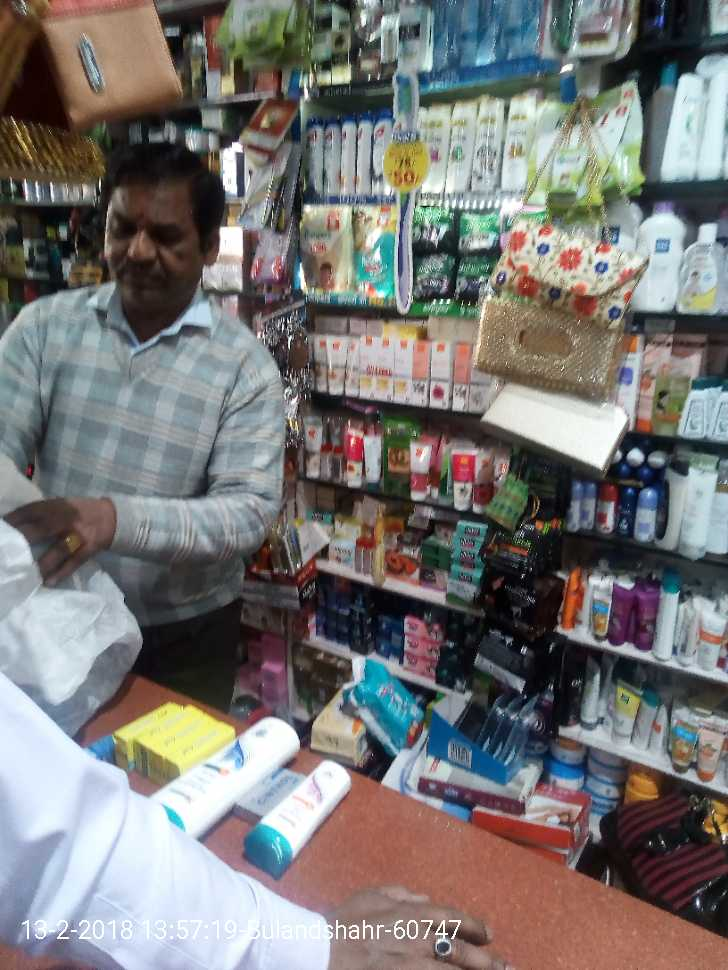venus: (477, 1, 537, 64), (434, 1, 472, 69)
